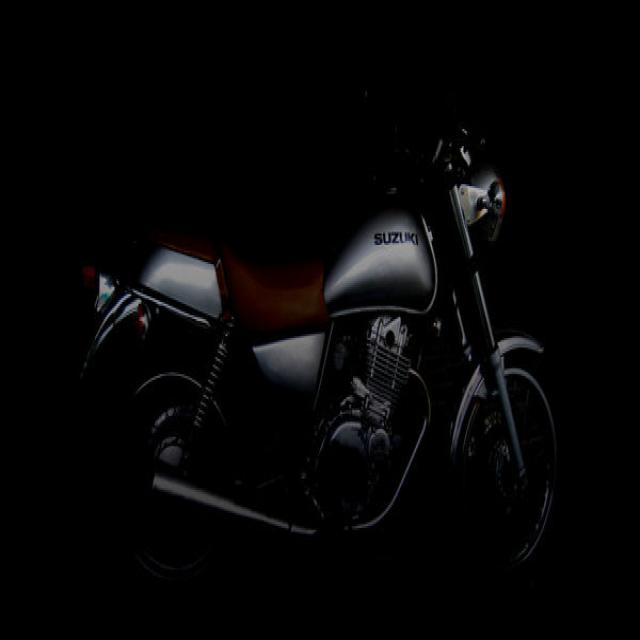Motorbike: (60, 72, 572, 597)
